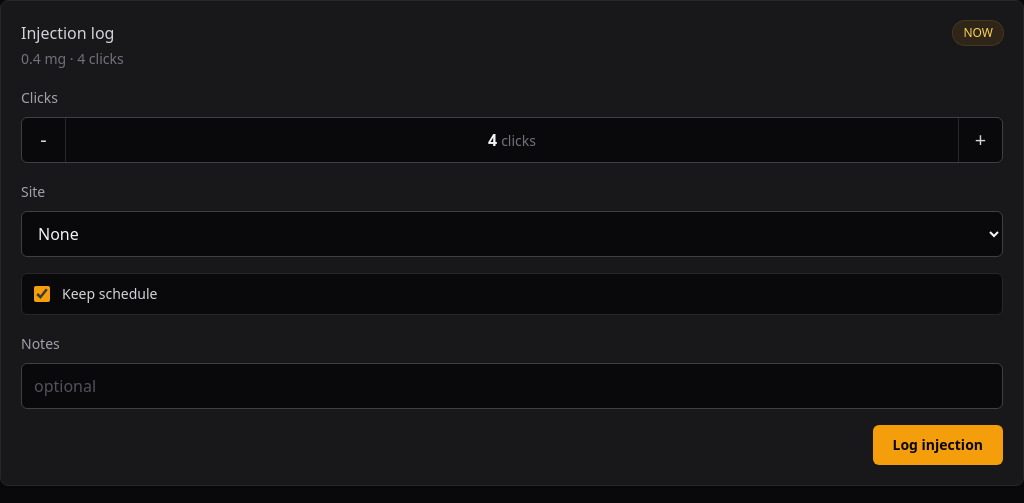
it: InjectionForm › posts a six-click injection with schedule preservation enabled by default
Click the button named "increase clicks" at (980, 140), box x1=958 y1=118 x2=1002 y2=162
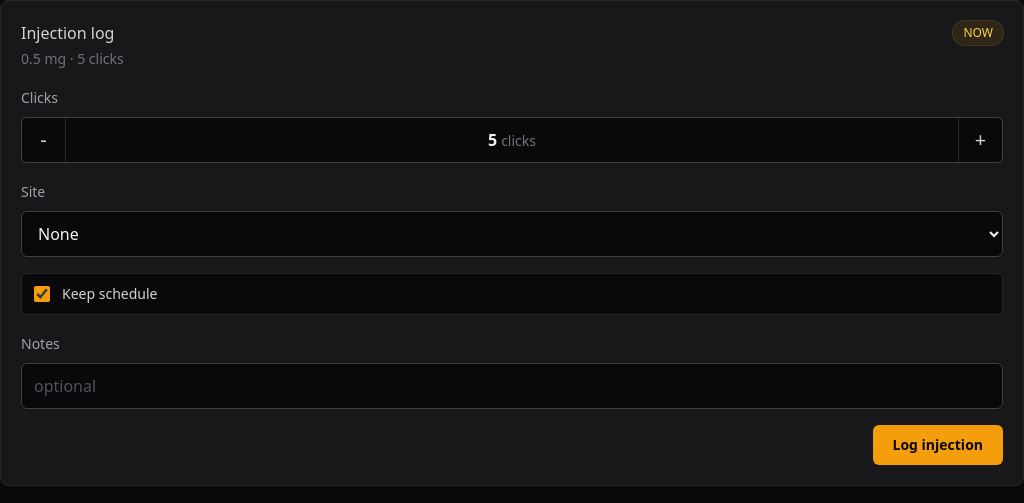
Click the button named "increase clicks" at (980, 140), box x1=958 y1=118 x2=1002 y2=162
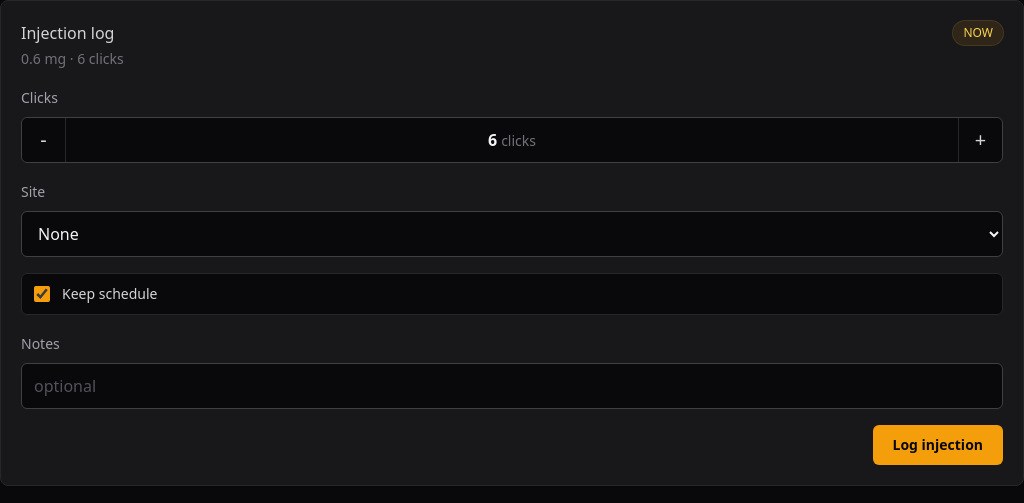
Select "Thigh" in the dropdown labelled "Site" at (512, 234), box x1=21 y1=211 x2=1003 y2=257
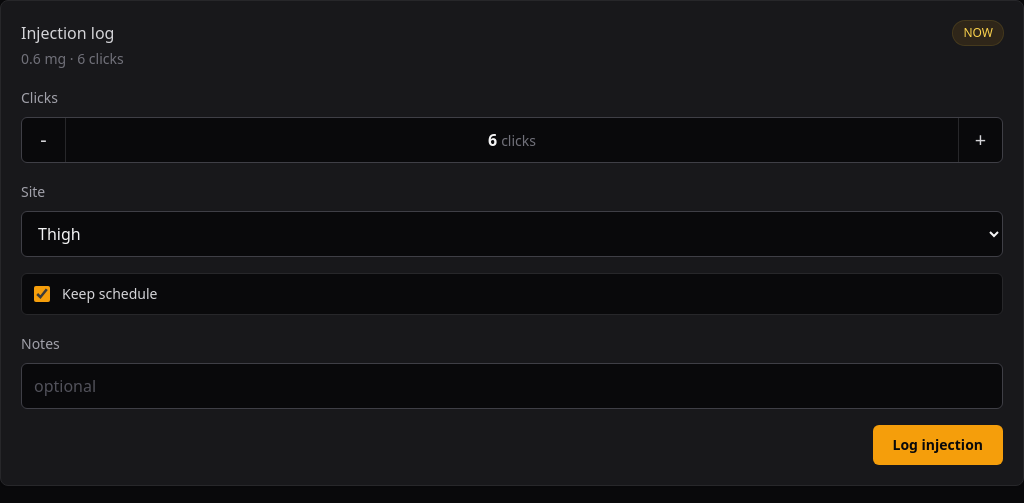
Type "late dose" into the field labelled "Notes" at (512, 386), box x1=21 y1=363 x2=1003 y2=409
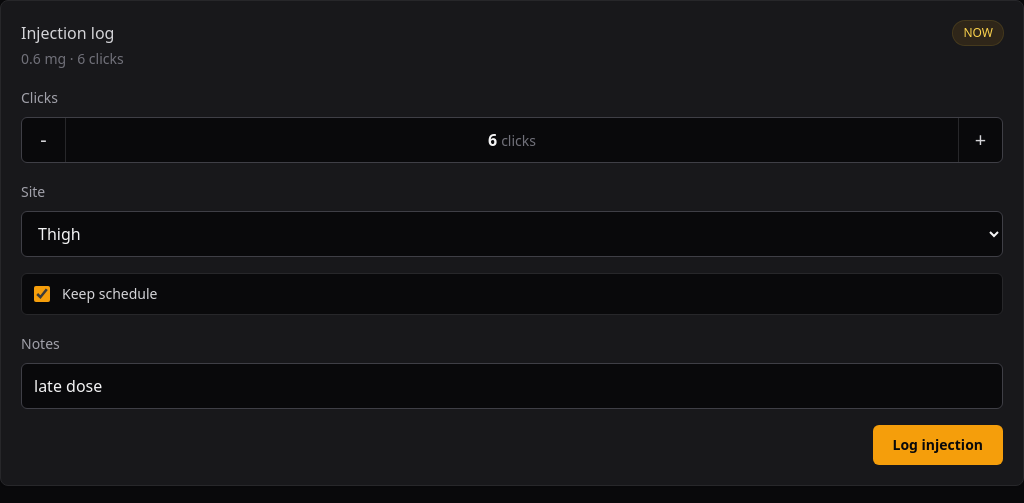
Click the button "Log injection" at (938, 445), box x1=872 y1=425 x2=1003 y2=465
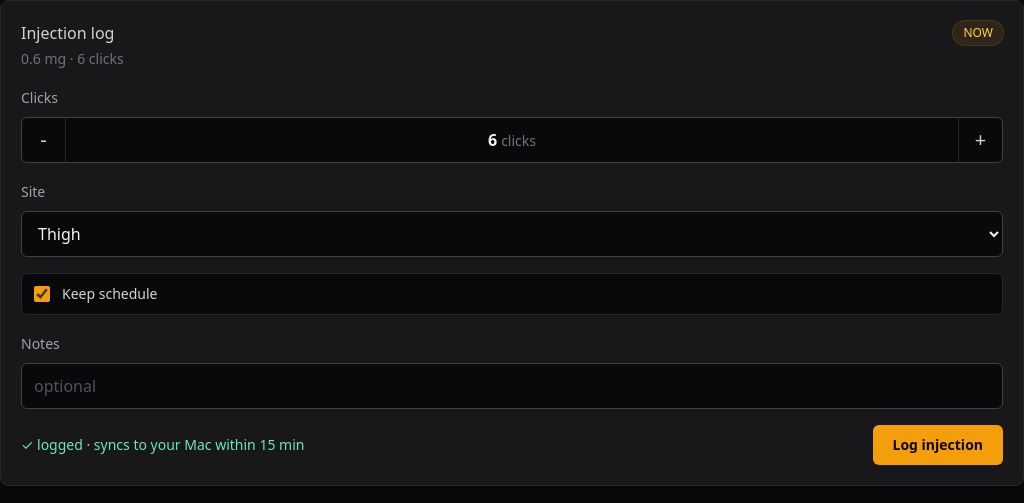
Now the text "✓ logged · syncs to your Mac within 15 min" is shown, box x1=21 y1=435 x2=304 y2=454
